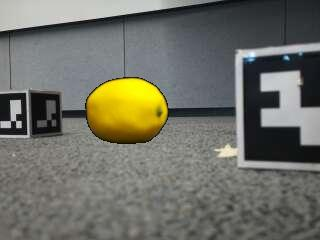lemon: (86, 78, 167, 144)
